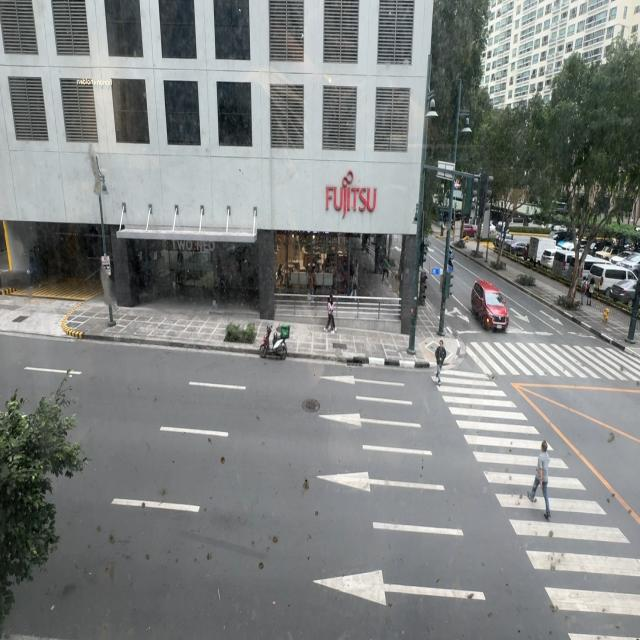crossing: (526, 440, 551, 521), (434, 338, 446, 386)
pedestrain: (325, 293, 336, 334), (28, 253, 36, 284), (580, 278, 586, 306), (586, 278, 592, 306)
